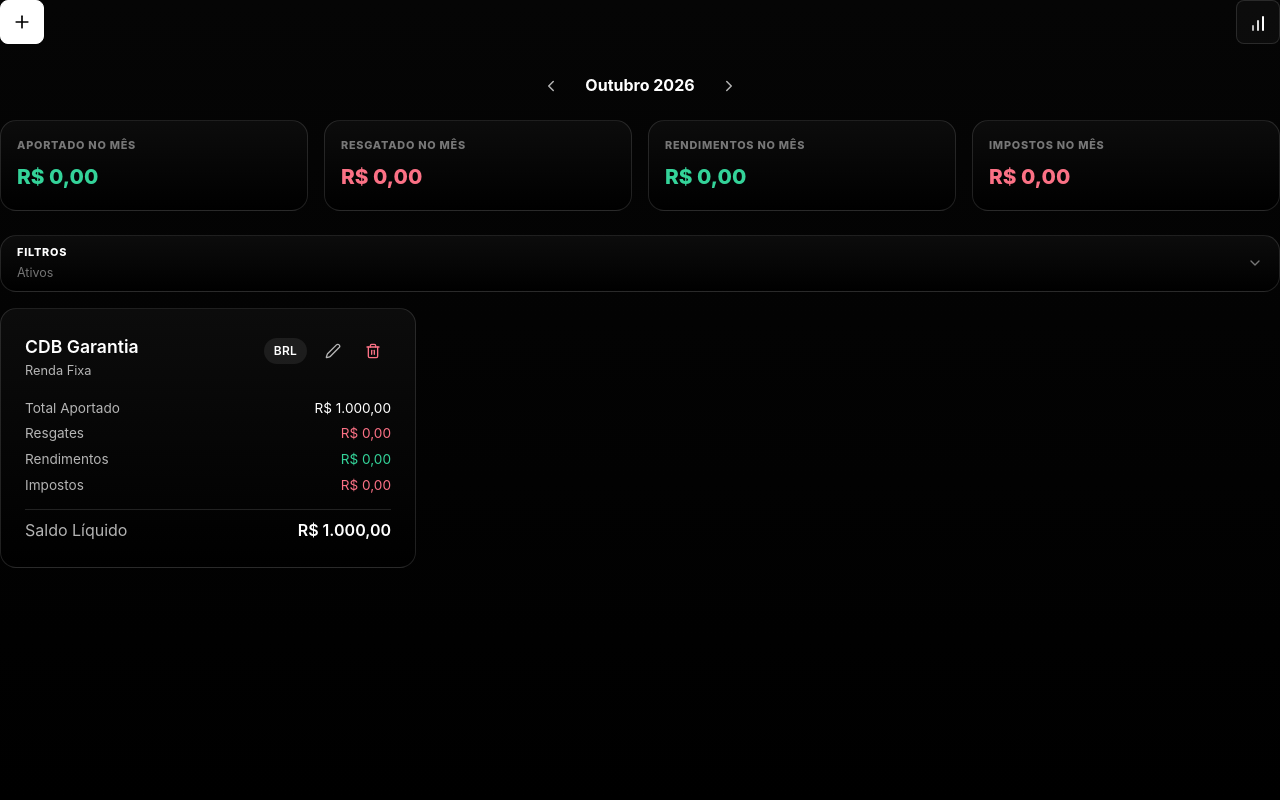
Test: Investments Page › closes the delete confirmation without deleting when Cancelar is clicked
Click the heading "CDB Garantia".
click(82, 347)  # box [25, 333, 139, 361]
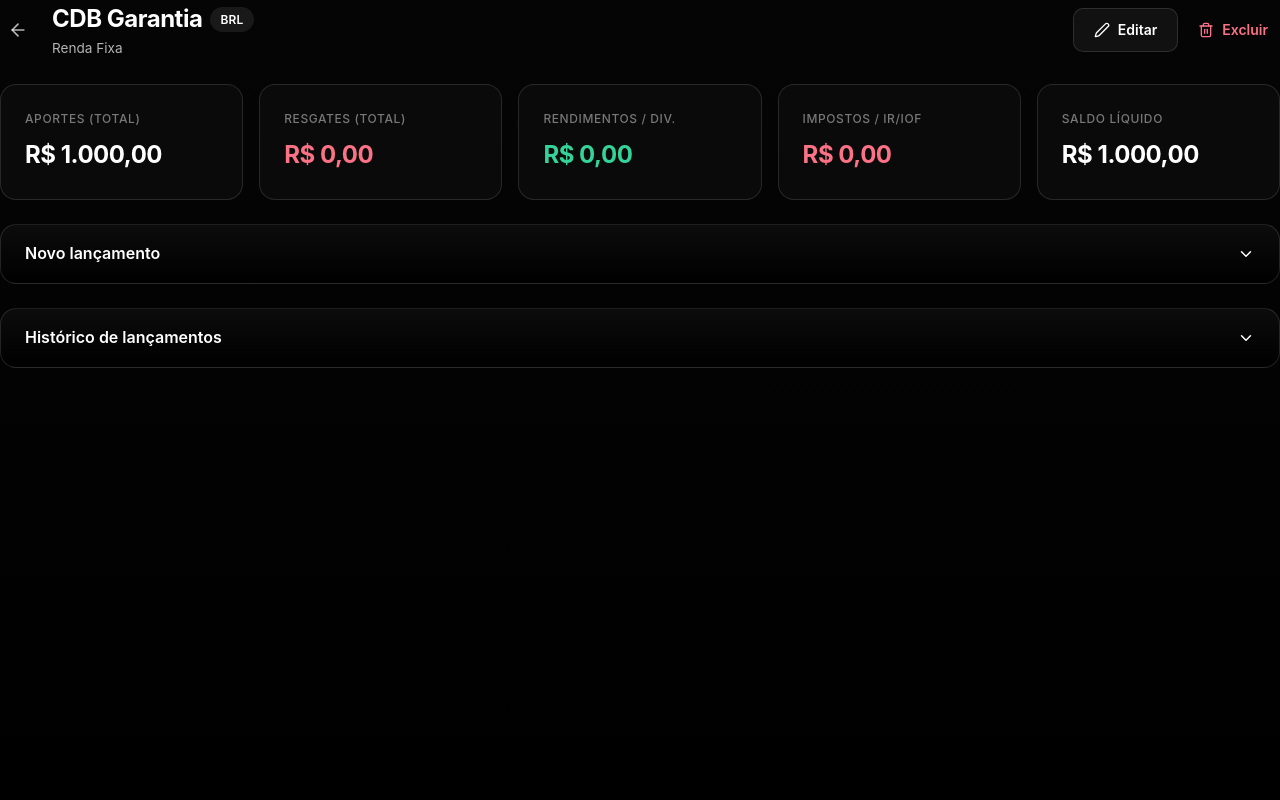
Click the button "Histórico de lançamentos".
click(123, 337)  # box [1, 309, 1279, 367]
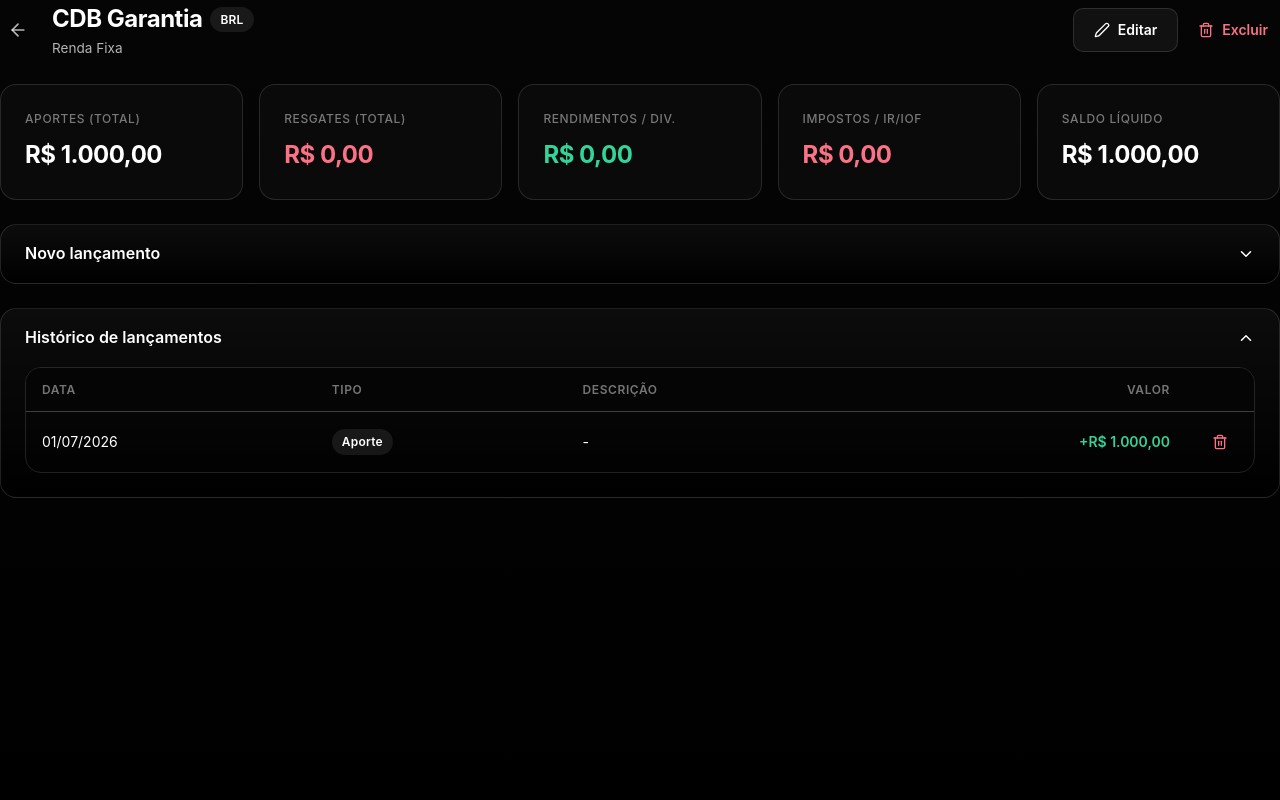
Click the button named "Excluir lançamento".
click(1220, 442)  # box [1202, 424, 1238, 460]
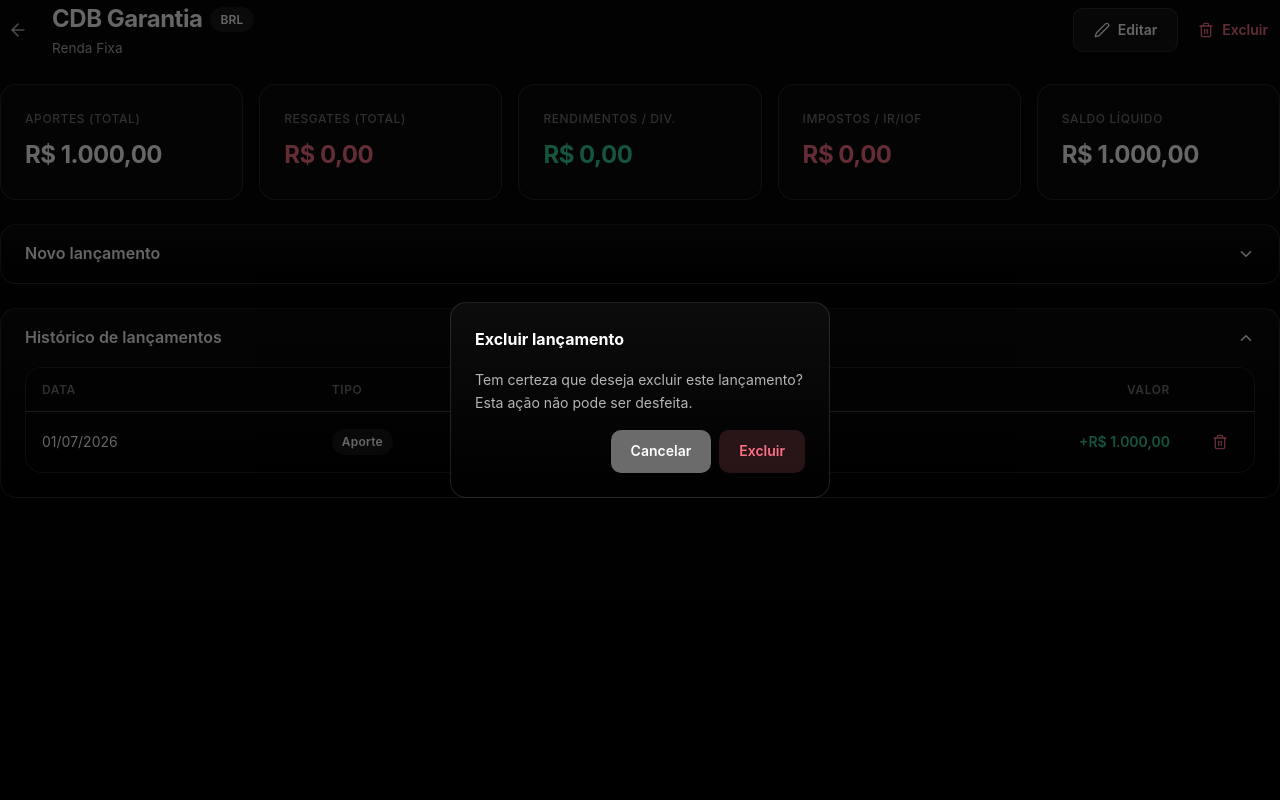
Expected: the heading "Excluir lançamento" is shown, [475, 330, 624, 350]
Click the button "Cancelar".
click(661, 451)  # box [611, 430, 711, 472]
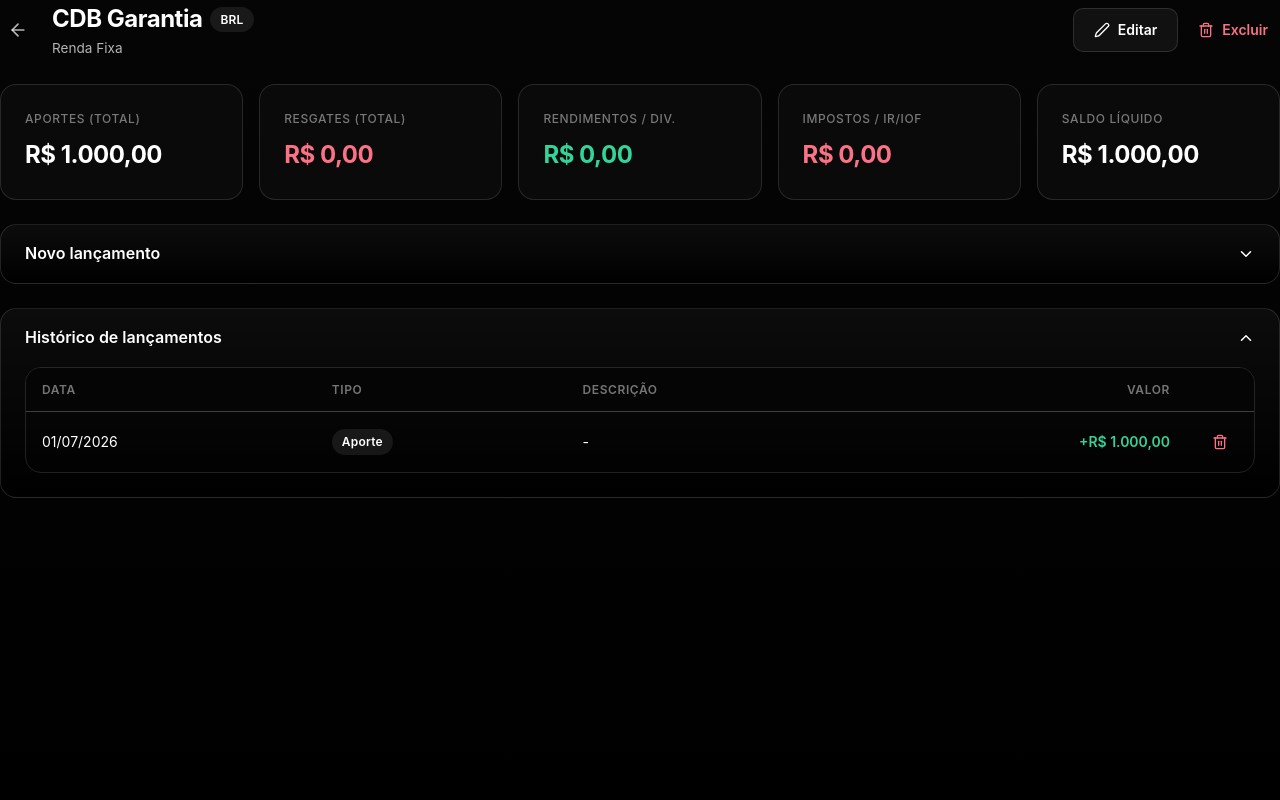
Expected: the heading "Excluir lançamento" is gone
